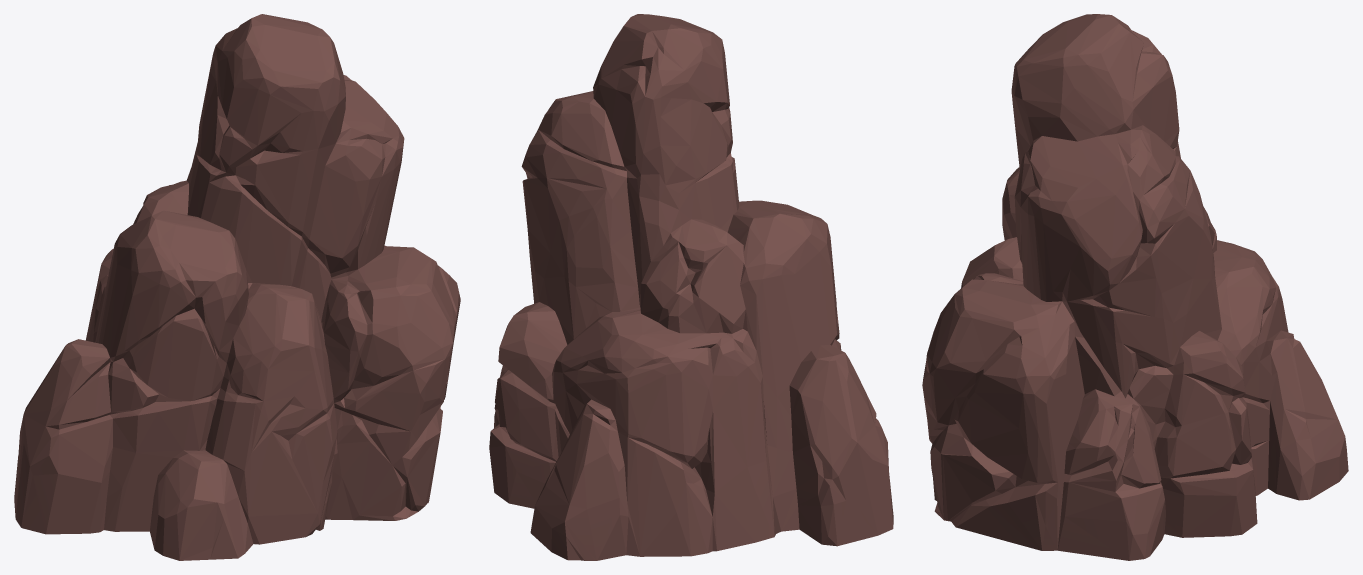
File: zone3-s22.glb
The picture shows the model from 3 angles, left to right: view 1: azimuth 30°, elevation 25°; view 2: azimuth 150°, elevation 25°; view 3: azimuth 270°, elevation 25°; orthographic projection. The views are drawn at different scales.
Visible parts, largest first — view 1: rock-sandstone-large-f.001; view 2: rock-sandstone-large-f.001; view 3: rock-sandstone-large-f.001.
Boxes of the visible parts, left/top/right/bottom form: rock-sandstone-large-f.001: left=14, top=14, right=460, bottom=560; rock-sandstone-large-f.001: left=489, top=14, right=893, bottom=560; rock-sandstone-large-f.001: left=922, top=14, right=1348, bottom=560.
Bounding box in the file's own units: 57.31 × 62.68 × 52.21.
